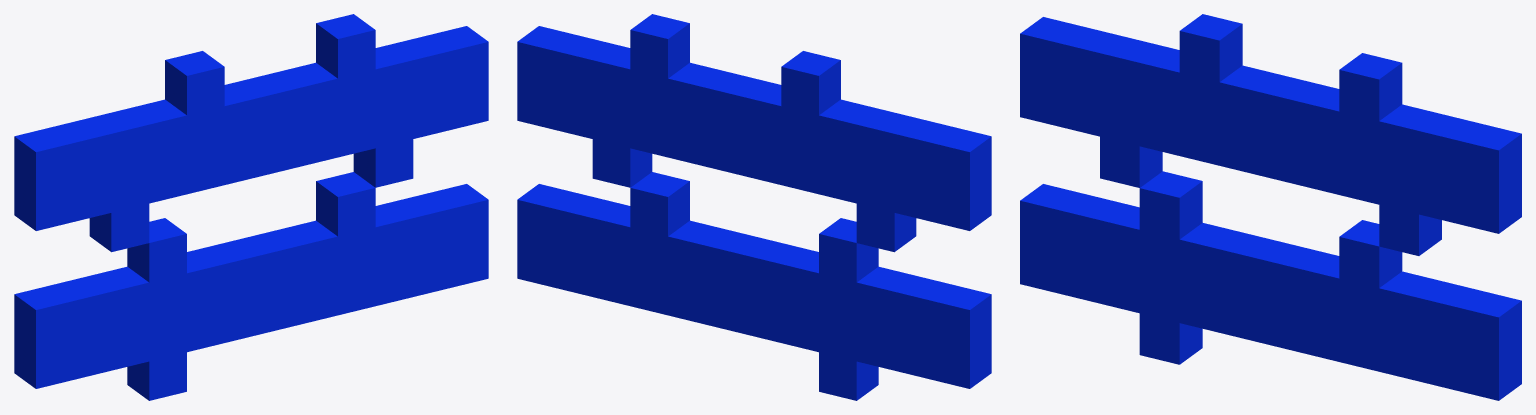
The model's file is MazeBlueRightLeg-2.vox.obj.
3 views of the same model, side by side, from view 1: azimuth 30°, elevation 25°; view 2: azimuth 150°, elevation 25°; view 3: azimuth 330°, elevation 25° (orthographic). The views are drawn at different scales.
Bounding box in the file's own units: 1.2 × 0.8 × 0.1.
1 material, 1 textured.
